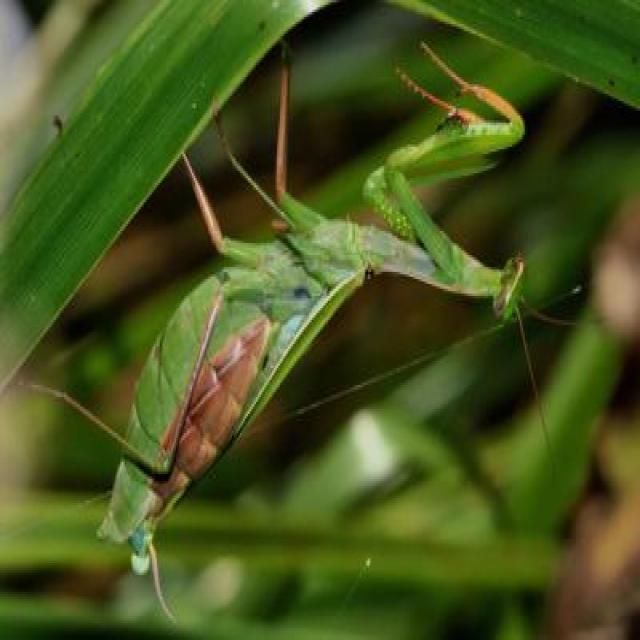antennae: (516, 309, 558, 462), (518, 288, 584, 328)
body: (108, 221, 526, 574)
insect: (4, 33, 583, 637)
legs: (15, 279, 268, 456), (383, 42, 529, 264), (360, 59, 482, 271), (184, 149, 278, 271), (270, 36, 323, 224), (214, 114, 292, 228)
mouthpart: (511, 256, 531, 278)
wings: (152, 270, 368, 524)
